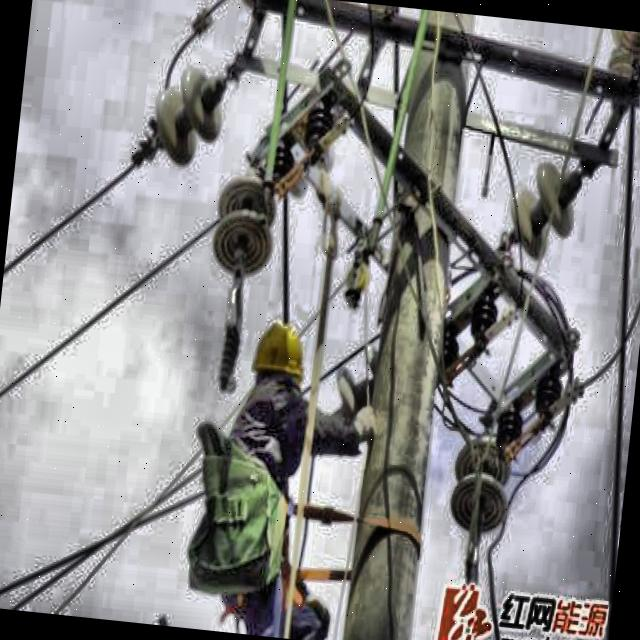helmet: (242, 312, 318, 424)
